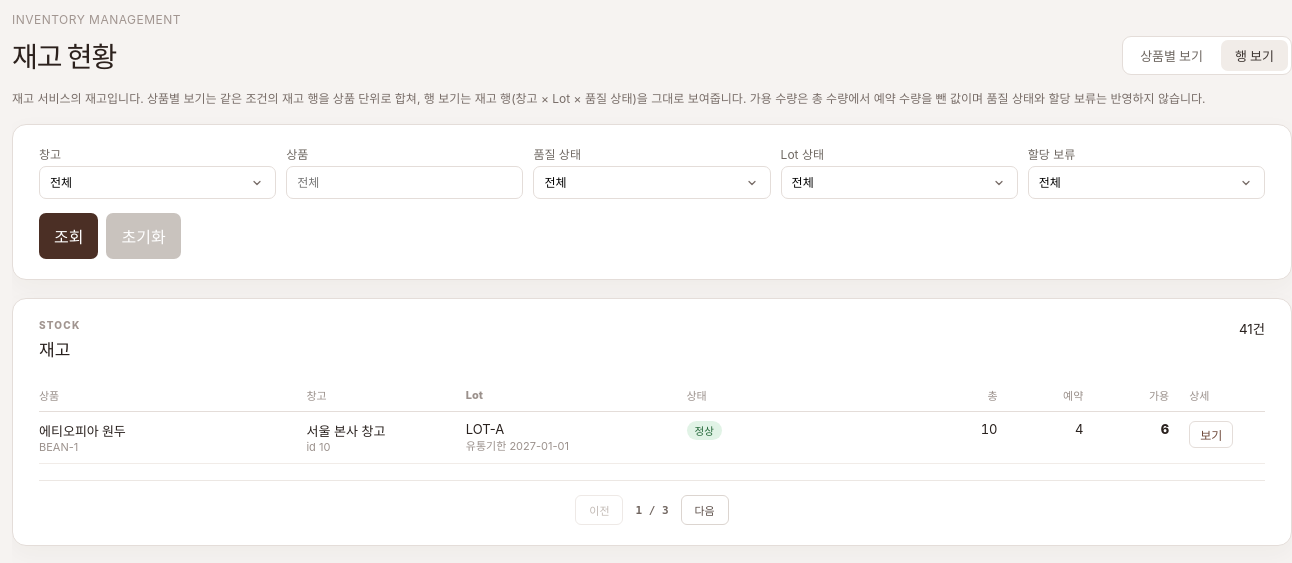
StockPage › 다음·이전으로 페이지를 옮긴다
Check: the text "1 / 3" is shown, box x1=635 y1=504 x2=668 y2=516
Check: the button "이전" is disabled, box x1=575 y1=495 x2=623 y2=525
Click the button "다음": coordinates (705, 510) x1=681 y1=495 x2=729 y2=525
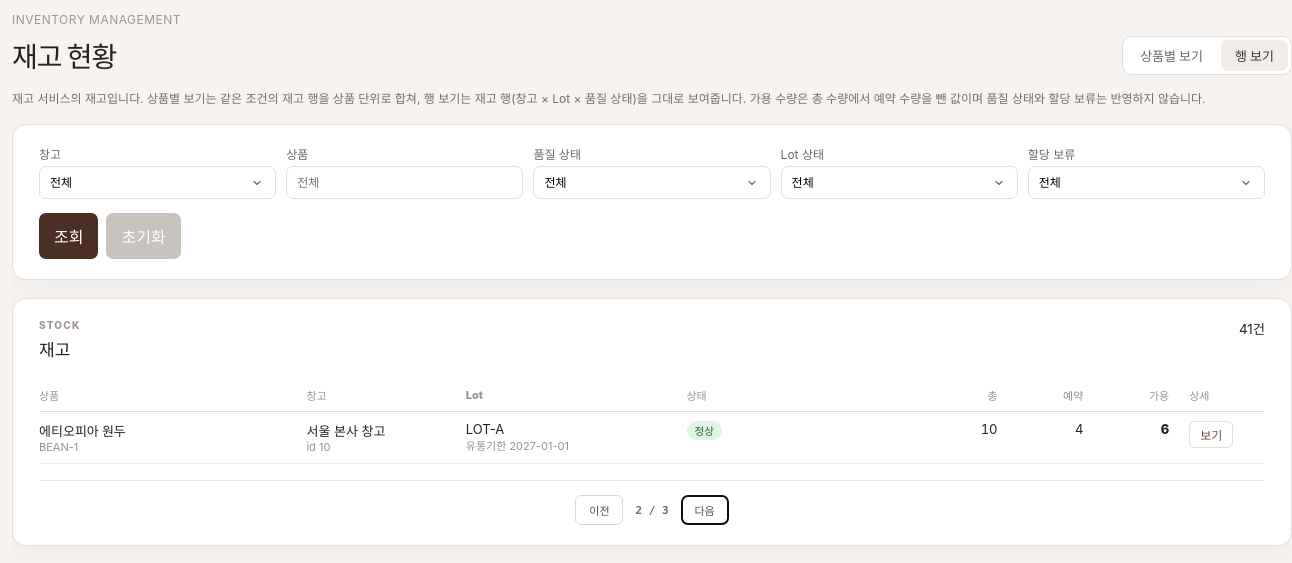
Check: the text "2 / 3" is shown, box x1=635 y1=504 x2=668 y2=516
